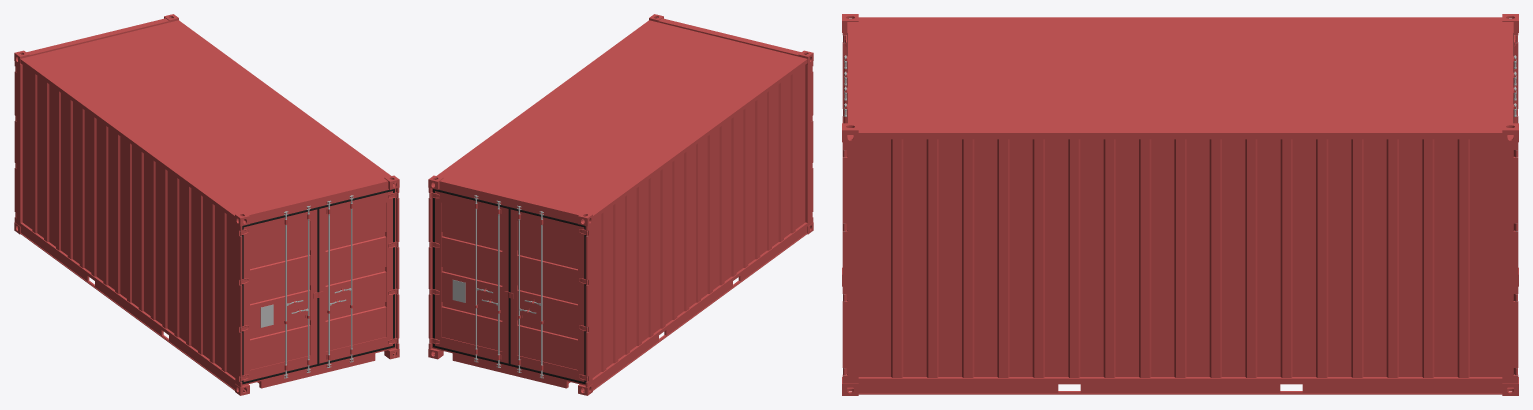
Rendered from CargoContainer.dae.
3 views of the same model, side by side, from view 1: azimuth 30°, elevation 25°; view 2: azimuth 150°, elevation 25°; view 3: azimuth 270°, elevation 25° (orthographic). The views are drawn at different scales.
Visible parts, largest first — view 1: group_40, group_81, group_96 (×2), group_95 (×2), group_117, group_102, group_93 (×2), group_79, group_31, group_50, group_47; view 2: group_40, group_81, group_22 (×2), group_21 (×2), group_117, group_31, group_93 (×2), group_30, group_102, group_50, group_47; view 3: group_81, group_40, group_117, group_31, group_102, group_93 (×2).
Boxes of the visible parts, bbox=[...] form: group_40: bbox=[20, 20, 390, 219]; group_81: bbox=[22, 65, 235, 377]; group_96 (×2): bbox=[250, 202, 386, 369]; group_95 (×2): bbox=[243, 191, 392, 381]; group_117: bbox=[20, 222, 235, 390]; group_102: bbox=[235, 188, 399, 387]; group_93 (×2): bbox=[26, 18, 388, 222]; group_79: bbox=[241, 189, 394, 384]; group_31: bbox=[14, 61, 20, 225]; group_50: bbox=[259, 353, 375, 388]; group_47: bbox=[20, 64, 22, 222]; group_40: bbox=[437, 20, 807, 219]; group_81: bbox=[592, 65, 805, 377]; group_22 (×2): bbox=[441, 202, 577, 369]; group_21 (×2): bbox=[435, 191, 584, 381]; group_117: bbox=[592, 222, 807, 390]; group_31: bbox=[428, 188, 592, 387]; group_93 (×2): bbox=[439, 18, 801, 222]; group_30: bbox=[433, 189, 586, 384]; group_102: bbox=[807, 61, 813, 225]; group_50: bbox=[452, 353, 568, 388]; group_47: bbox=[805, 64, 807, 222]; group_81: bbox=[858, 139, 1502, 377]; group_40: bbox=[858, 17, 1502, 139]; group_117: bbox=[858, 377, 1502, 394]; group_31: bbox=[1502, 33, 1518, 383]; group_102: bbox=[842, 33, 858, 383]; group_93 (×2): bbox=[847, 22, 1513, 123].
Size of the model in its own units: 97.57 by 240 by 104.
